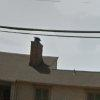Chimney: (24, 30, 53, 72)
